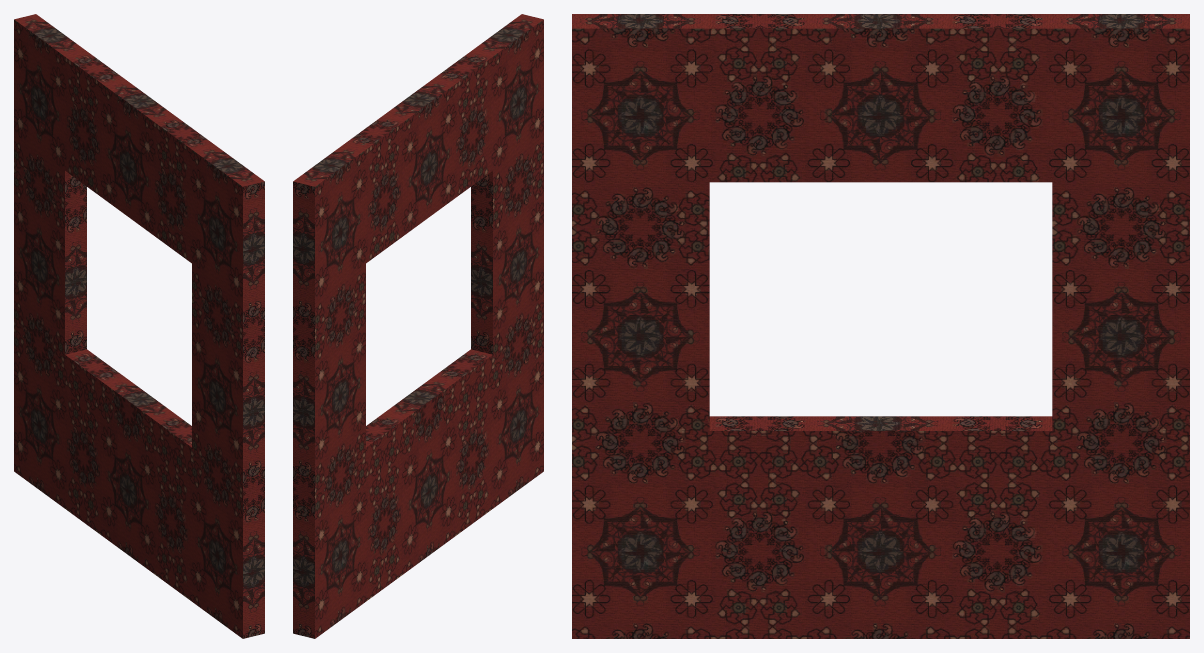
File: soupwindwall013.glb
3 renders of one model, left to right at view 1: azimuth 30°, elevation 25°; view 2: azimuth 150°, elevation 25°; view 3: azimuth 270°, elevation 25°, orthographic. The views are drawn at different scales.
Visible parts, largest first — view 1: soupwindwall013_high_1; view 2: soupwindwall013_high_1; view 3: soupwindwall013_high_1.
Part boxes in pixels (x1=…): soupwindwall013_high_1: x1=14, y1=14, x2=264, y2=638; soupwindwall013_high_1: x1=293, y1=14, x2=543, y2=638; soupwindwall013_high_1: x1=572, y1=14, x2=1189, y2=638.
Bounding box in the file's own units: 0.1504 × 2.95 × 2.7.
Materials: 1 (1 with a texture image).
